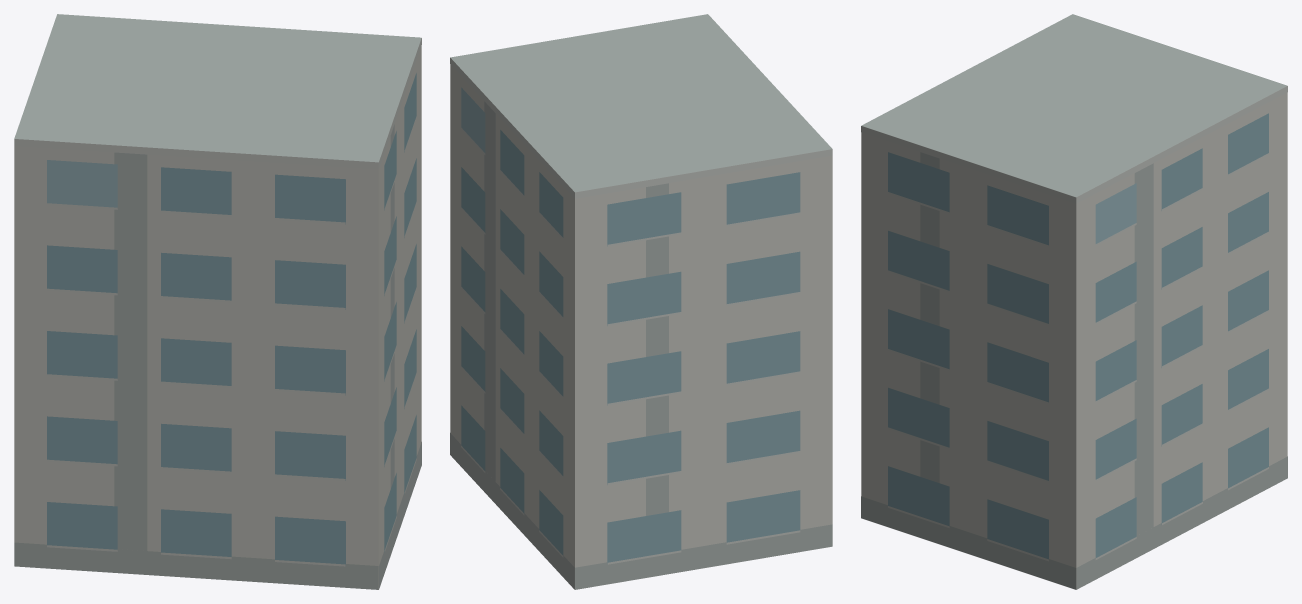
The model's file is survey-upis-32637029.glb.
The picture shows the model from 3 angles, left to right: view 1: azimuth 30°, elevation 25°; view 2: azimuth 150°, elevation 25°; view 3: azimuth 270°, elevation 25°; orthographic projection. The views are drawn at different scales.
Parts seen in each view (by area): view 1: survey-upis-32637029.tmp; view 2: survey-upis-32637029.tmp; view 3: survey-upis-32637029.tmp.
Boxes of the visible parts, bbox=[...] form: survey-upis-32637029.tmp: bbox=[14, 14, 421, 589]; survey-upis-32637029.tmp: bbox=[450, 14, 832, 589]; survey-upis-32637029.tmp: bbox=[861, 14, 1287, 589].
Size of the model in its own units: 14.54 by 14.5 by 14.3.
